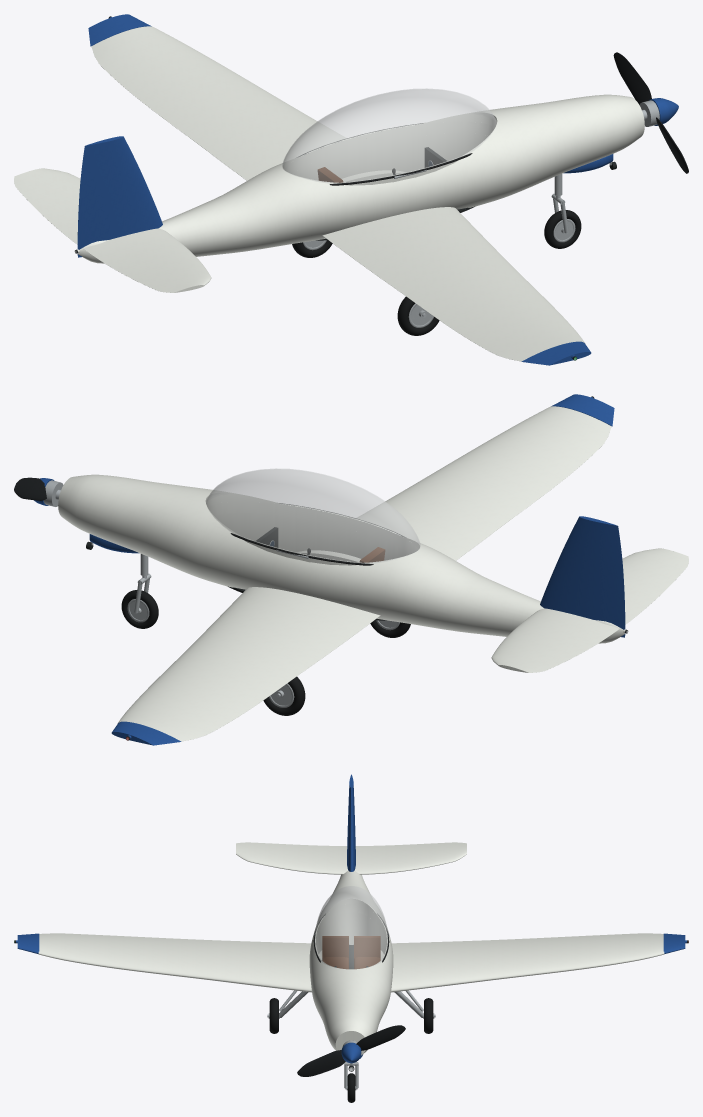
File: desktop-propeller-aircraft.glb
The picture shows the model from 3 angles, top to bottom: view 1: azimuth 30°, elevation 25°; view 2: azimuth 150°, elevation 25°; view 3: azimuth 270°, elevation 25°; orthographic projection. The views are drawn at different scales.
Visible parts, largest first — view 1: ASTRA aircraft airframe · Innerscene CC0, Propeller finite twisted blade1; view 2: ASTRA aircraft airframe · Innerscene CC0, Propeller finite twisted blade1; view 3: ASTRA aircraft airframe · Innerscene CC0, Propeller finite twisted blade2, Propeller finite twisted blade1.
Boxes of the visible parts, x1,y1,x2,y2 form: ASTRA aircraft airframe · Innerscene CC0: (14,14,678,365); Propeller finite twisted blade1: (613,52,651,104); ASTRA aircraft airframe · Innerscene CC0: (34,394,688,745); Propeller finite twisted blade1: (14,477,46,500); ASTRA aircraft airframe · Innerscene CC0: (14,774,688,1102); Propeller finite twisted blade2: (297,1050,345,1076); Propeller finite twisted blade1: (356,1025,405,1050).
Bounding box in the file's own units: 8.32 × 2.88 × 11.12.
16 materials, 16 textured.
